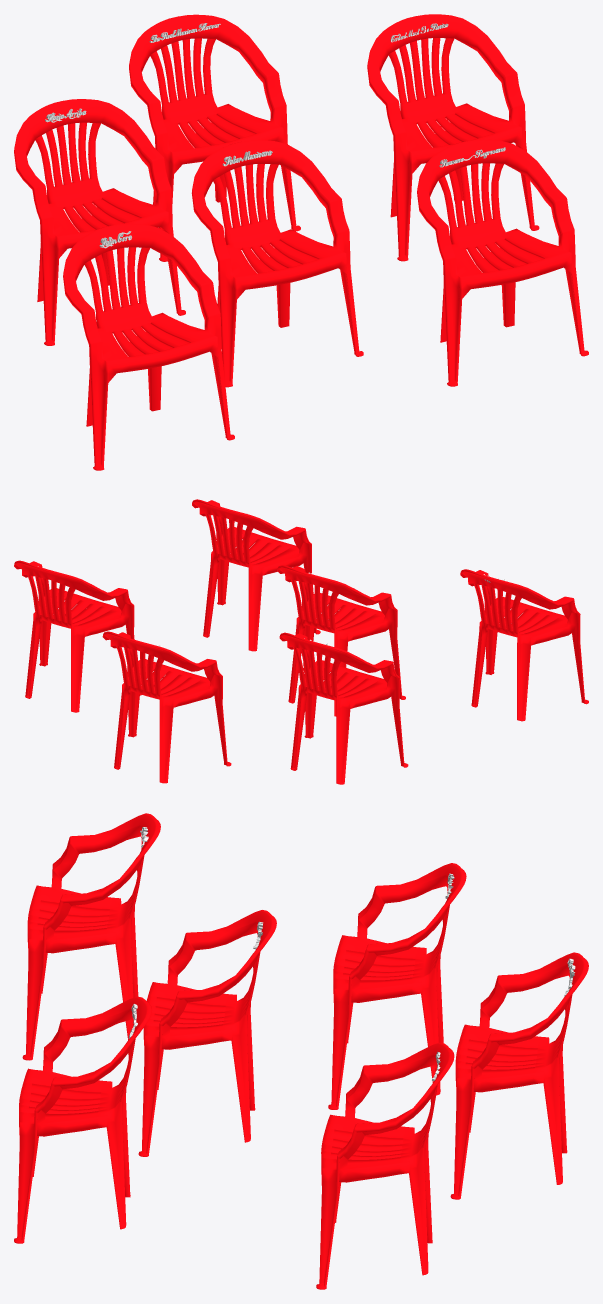
Rendered from plasticchairs.glb.
3 views of the same model, one above another, from view 1: azimuth 30°, elevation 25°; view 2: azimuth 150°, elevation 25°; view 3: azimuth 270°, elevation 25° (orthographic). The views are drawn at different scales.
Visible parts, largest first — view 1: Plastic_Chair.002, Plastic_Chair.001, Plastic_Chair, Plastic_Chair.004, Plastic_Chair.003, Plastic_Chair.005; view 2: Plastic_Chair.005, Plastic_Chair.003, Plastic_Chair.002, Plastic_Chair.001, Plastic_Chair.004, Plastic_Chair; view 3: Plastic_Chair.004, Plastic_Chair.001, Plastic_Chair.005, Plastic_Chair, Plastic_Chair.002, Plastic_Chair.003.
Part boxes in pixels (x1=…): Plastic_Chair.002: x1=63, y1=223, x2=234, y2=470; Plastic_Chair.001: x1=417, y1=139, x2=588, y2=386; Plastic_Chair: x1=191, y1=140, x2=363, y2=387; Plastic_Chair.004: x1=367, y1=14, x2=539, y2=261; Plastic_Chair.003: x1=14, y1=99, x2=185, y2=345; Plastic_Chair.005: x1=129, y1=14, x2=300, y2=261; Plastic_Chair.005: x1=102, y1=631, x2=231, y2=783; Plastic_Chair.003: x1=279, y1=632, x2=408, y2=784; Plastic_Chair.002: x1=460, y1=569, x2=588, y2=721; Plastic_Chair.001: x1=192, y1=499, x2=320, y2=651; Plastic_Chair.004: x1=14, y1=560, x2=141, y2=712; Plastic_Chair: x1=277, y1=565, x2=405, y2=716; Plastic_Chair.004: x1=316, y1=1042, x2=454, y2=1289; Plastic_Chair.001: x1=14, y1=996, x2=151, y2=1243; Plastic_Chair.005: x1=450, y1=952, x2=588, y2=1199; Plastic_Chair: x1=138, y1=910, x2=276, y2=1156; Plastic_Chair.002: x1=22, y1=813, x2=160, y2=1060; Plastic_Chair.003: x1=328, y1=863, x2=466, y2=1109.
Bounding box in the file's own units: 3.23 × 1.02 × 2.58.
